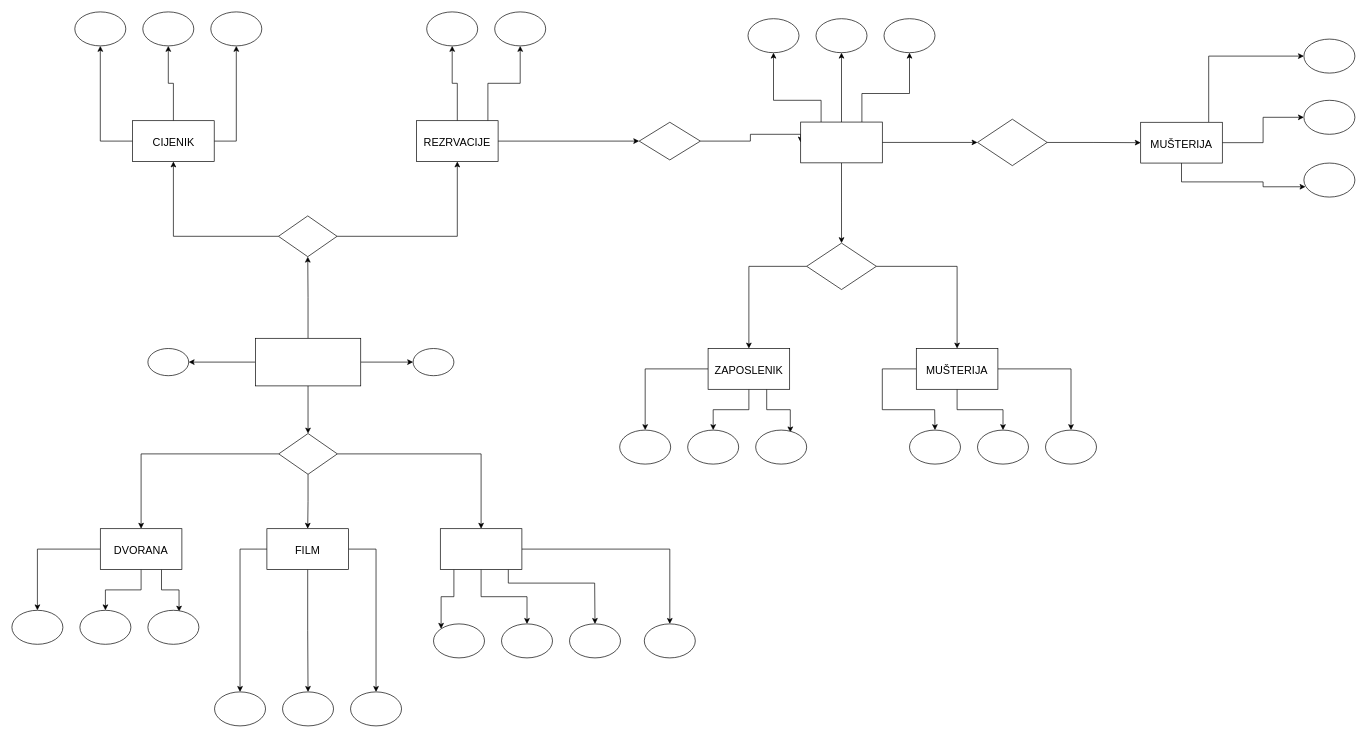
The diagram is 1367 pixels wide and 738 high, and some of its shapes have lost their labels. The shapes that lost their labels are listed below. From the top down, each one's centre as x and y in pixels, then its label:
[841,142]: RAČUN
[308,362]: KINO
[481,549]: ZAPOSLENICI
